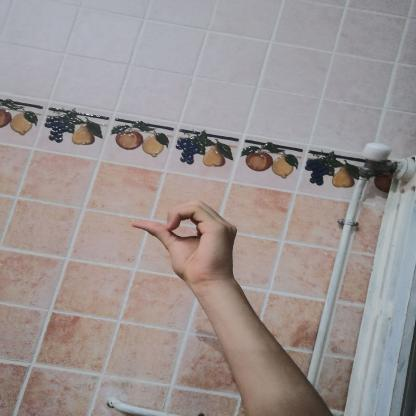WAW: (117, 193, 252, 294)
